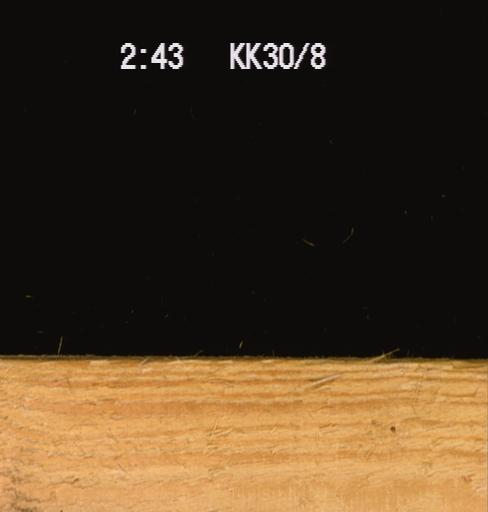small_knot: (379, 412, 405, 437)
